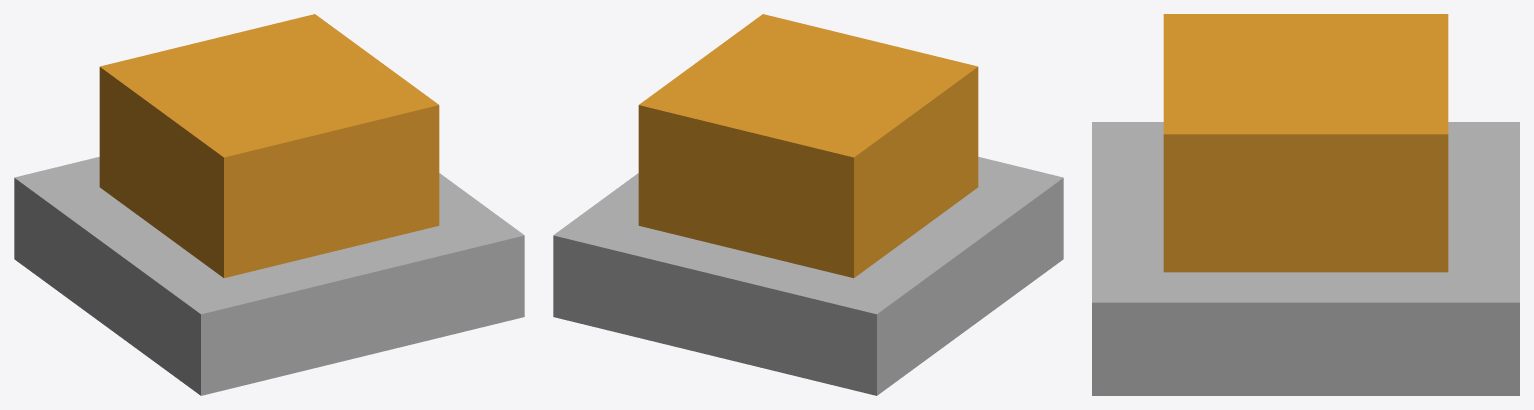
The model's file is Button.fbx.
3 renders of one model, left to right at view 1: azimuth 30°, elevation 25°; view 2: azimuth 150°, elevation 25°; view 3: azimuth 270°, elevation 25°, orthographic. The views are drawn at different scales.
Visible parts, largest first — view 1: Button, Button_Base; view 2: Button, Button_Base; view 3: Button_Base, Button.
Boxes of the visible parts, x1,y1,x2,y2 form: Button: (99, 14, 439, 277); Button_Base: (14, 157, 524, 395); Button: (638, 14, 978, 277); Button_Base: (553, 157, 1063, 395); Button_Base: (1092, 122, 1519, 395); Button: (1163, 14, 1448, 272).
Size of the model in its own units: 301 by 179 by 301.
